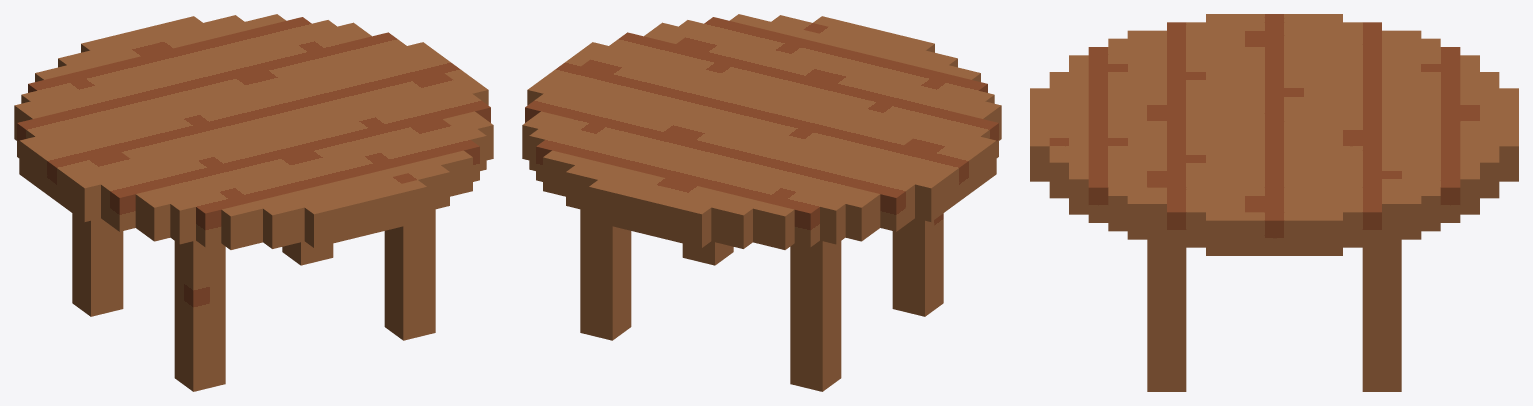
File: table.glb
The picture shows the model from 3 angles, left to right: view 1: azimuth 30°, elevation 25°; view 2: azimuth 150°, elevation 25°; view 3: azimuth 270°, elevation 25°; orthographic projection. The views are drawn at different scales.
Visible parts, largest first — view 1: table; view 2: table; view 3: table.
Boxes of the visible parts, x1,y1,x2,y2 form: table: [14, 14, 493, 391]; table: [522, 14, 1001, 391]; table: [1030, 14, 1518, 391].
Size of the model in its own units: 32 by 15.36 by 32.
Materials: 1 (1 with a texture image).
